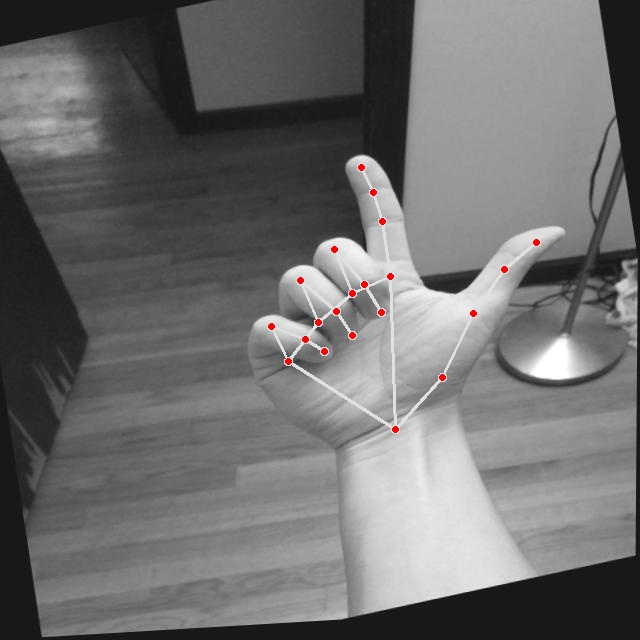L: (212, 110, 605, 483)
